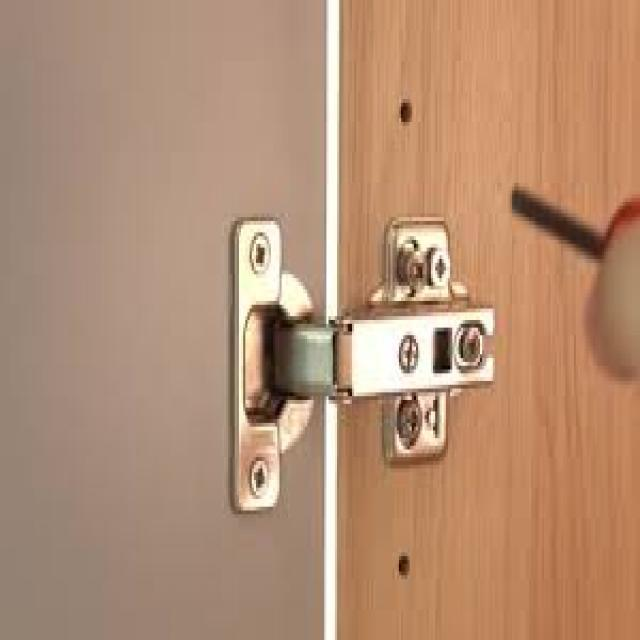screwdriver: (503, 172, 640, 270)
